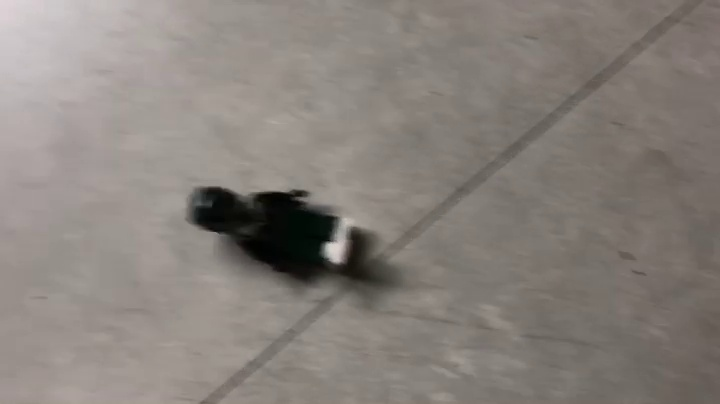people: (185, 185, 385, 280)
